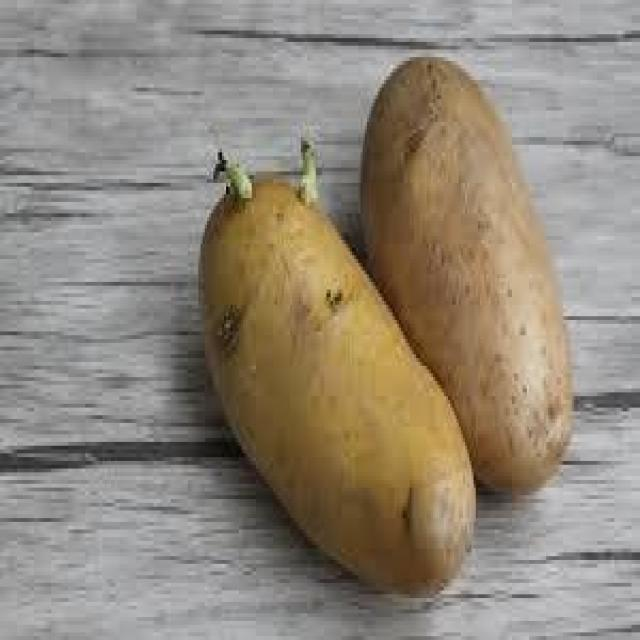potato: (363, 53, 576, 496)
